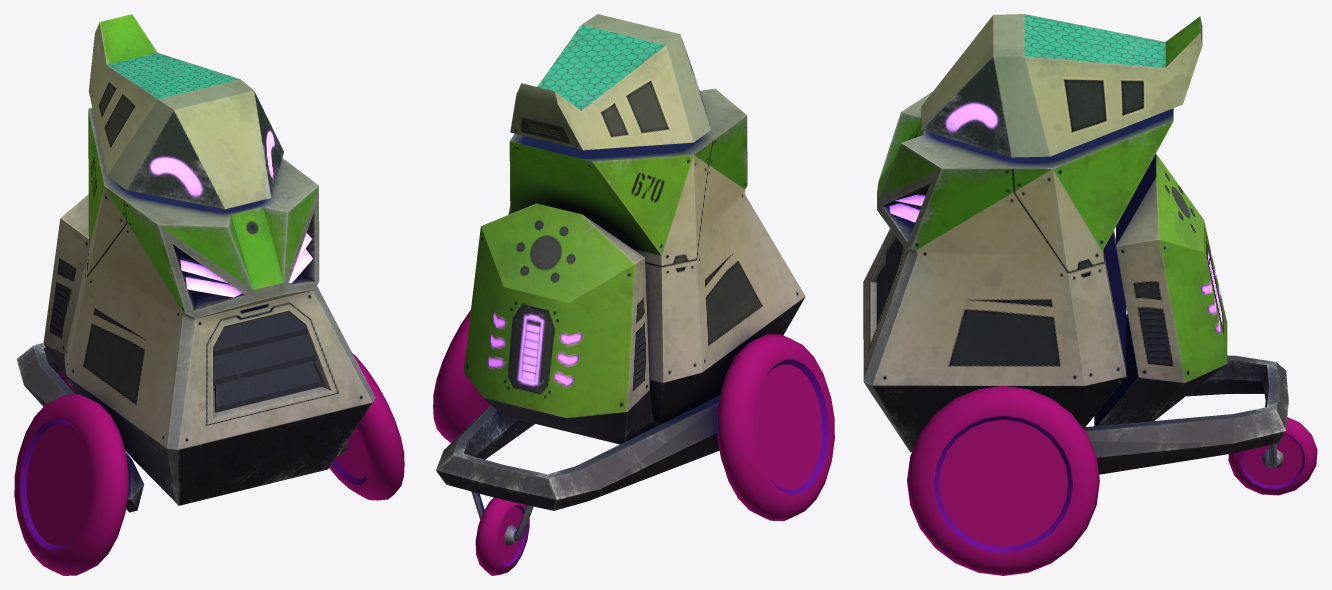
Rendered from DM002_Scifi_Robot_EV3_NoCrane_01.fbx.
3 renders of one model, left to right at view 1: azimuth 30°, elevation 25°; view 2: azimuth 150°, elevation 25°; view 3: azimuth 270°, elevation 25°, orthographic. The views are drawn at different scales.
Parts seen in each view (by area): view 1: Body.001, Tire_R.001, Tire_L.001; view 2: Body.001, Tire_R.001, Tire_L.001, Tire_Back.001; view 3: Body.001, Tire_L.001, Tire_Back.001.
Part boxes in pixels (x1,y1,x2,y2): Body.001: (16, 14, 375, 512); Tire_R.001: (14, 394, 128, 575); Tire_L.001: (329, 353, 404, 500); Body.001: (436, 14, 805, 545); Tire_R.001: (717, 334, 834, 521); Tire_L.001: (433, 310, 490, 442); Tire_Back.001: (475, 497, 529, 575); Body.001: (863, 14, 1288, 474); Tire_L.001: (907, 386, 1099, 575); Tire_Back.001: (1228, 417, 1317, 495).
Bounding box in the file's own units: 85.36 × 93.29 × 107.
Materials: 2 (1 with a texture image).
